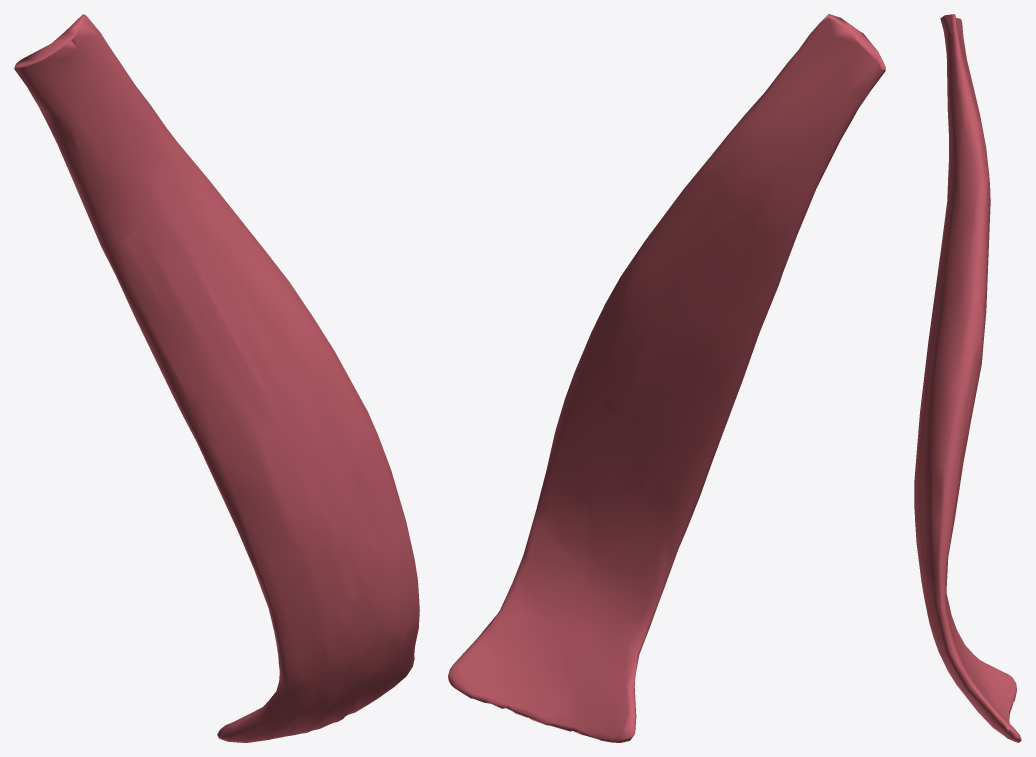
The picture shows the model from 3 angles, left to right: view 1: azimuth 30°, elevation 25°; view 2: azimuth 150°, elevation 25°; view 3: azimuth 270°, elevation 25°; orthographic projection. The views are drawn at different scales.
Parts seen in each view (by area): view 1: 左侧上直肌; view 2: 左侧上直肌; view 3: 左侧上直肌.
Part boxes in pixels (x1,y1,x2,y2): 左侧上直肌: (14,14,419,742); 左侧上直肌: (448,14,885,742); 左侧上直肌: (914,14,1021,742).
Bounding box in the file's own units: 0.0337 × 0.0598 × 0.00951.
